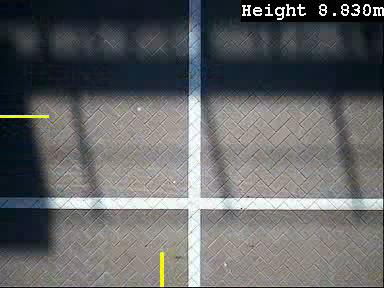groundmarker_2: (190, 54, 231, 106)
